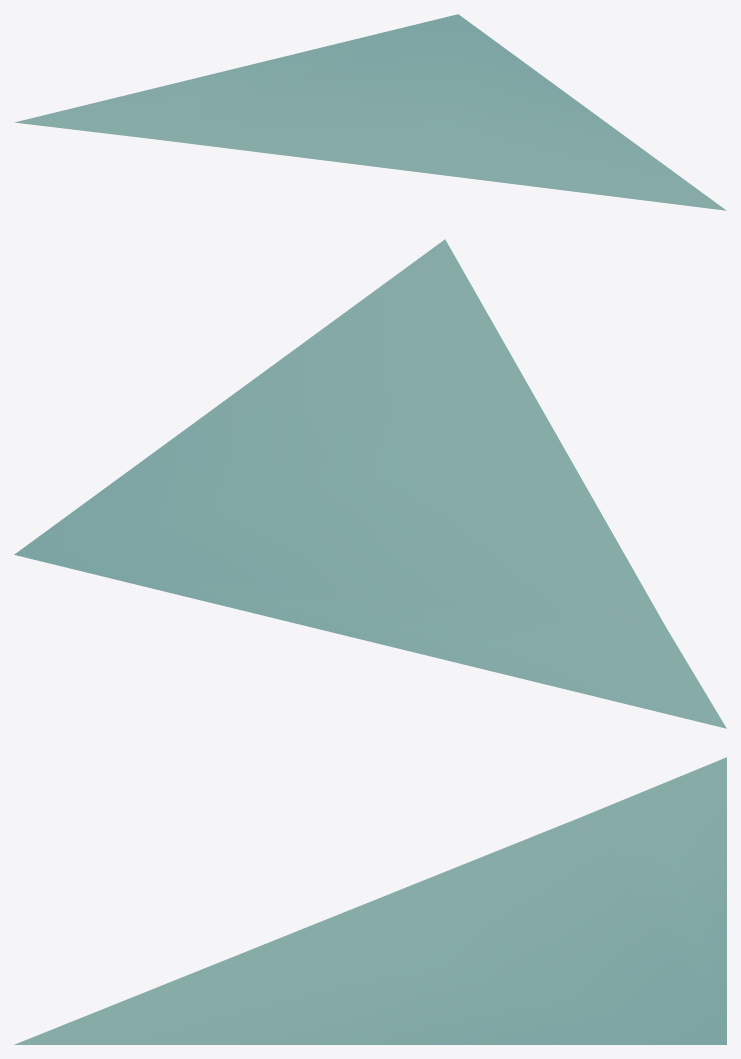
The model's file is water-23-8.glb.
The picture shows the model from 3 angles, top to bottom: view 1: azimuth 30°, elevation 25°; view 2: azimuth 150°, elevation 25°; view 3: azimuth 270°, elevation 25°; orthographic projection. The views are drawn at different scales.
Bounding box in the file's own units: 3.58 × 0 × 3.75.
